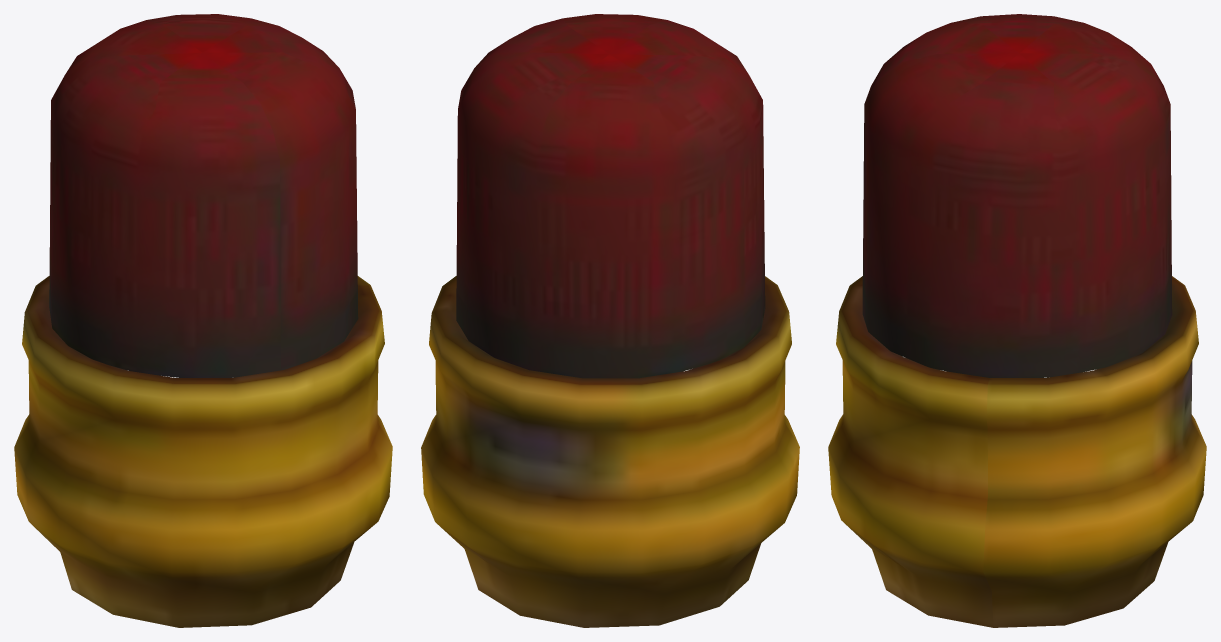
File: plight.siren.red.spinning.glb
3 views of the same model, side by side, from view 1: azimuth 30°, elevation 25°; view 2: azimuth 150°, elevation 25°; view 3: azimuth 270°, elevation 25° (orthographic).
Parts seen in each view (by area): view 1: plight.siren.red.spinning; view 2: plight.siren.red.spinning; view 3: plight.siren.red.spinning.
Part boxes in pixels (x1=…): plight.siren.red.spinning: x1=14, y1=14, x2=392, y2=627; plight.siren.red.spinning: x1=421, y1=14, x2=799, y2=627; plight.siren.red.spinning: x1=828, y1=14, x2=1206, y2=627.
Bounding box in the file's own units: 0.2375 × 0.3648 × 0.241.
Materials: 1 (1 with a texture image).
